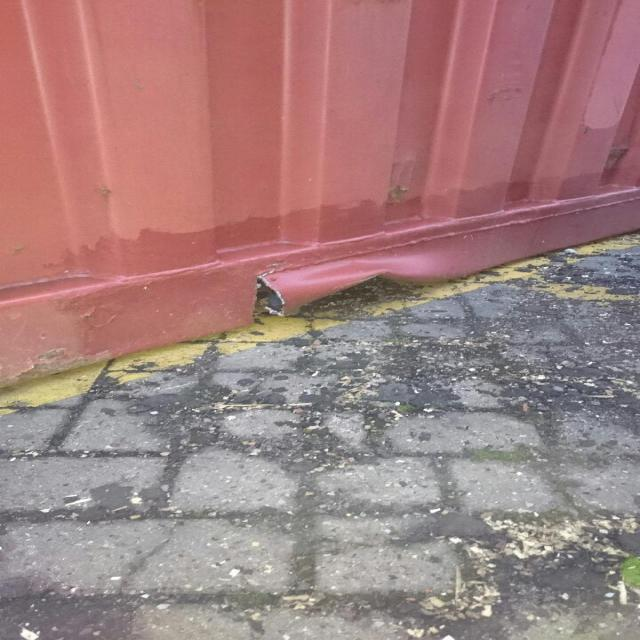hole: (238, 267, 424, 325)
